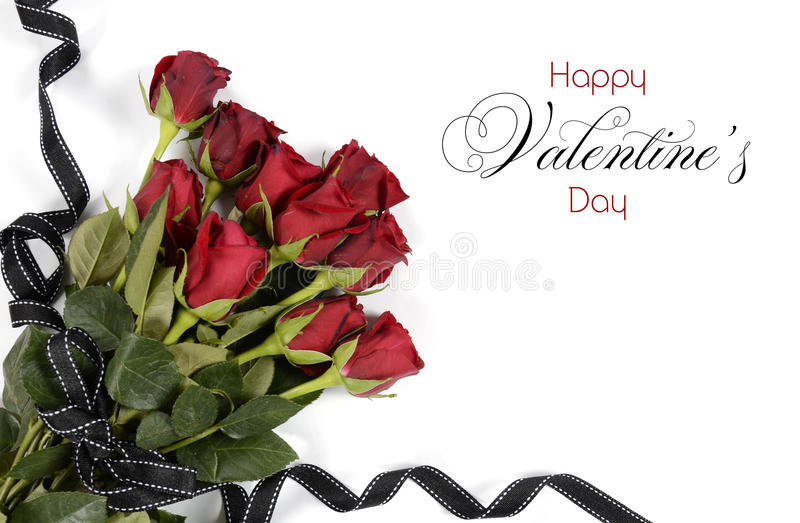RedRose: (277, 129, 412, 264), (181, 210, 268, 325), (339, 302, 432, 403), (144, 33, 228, 131)
